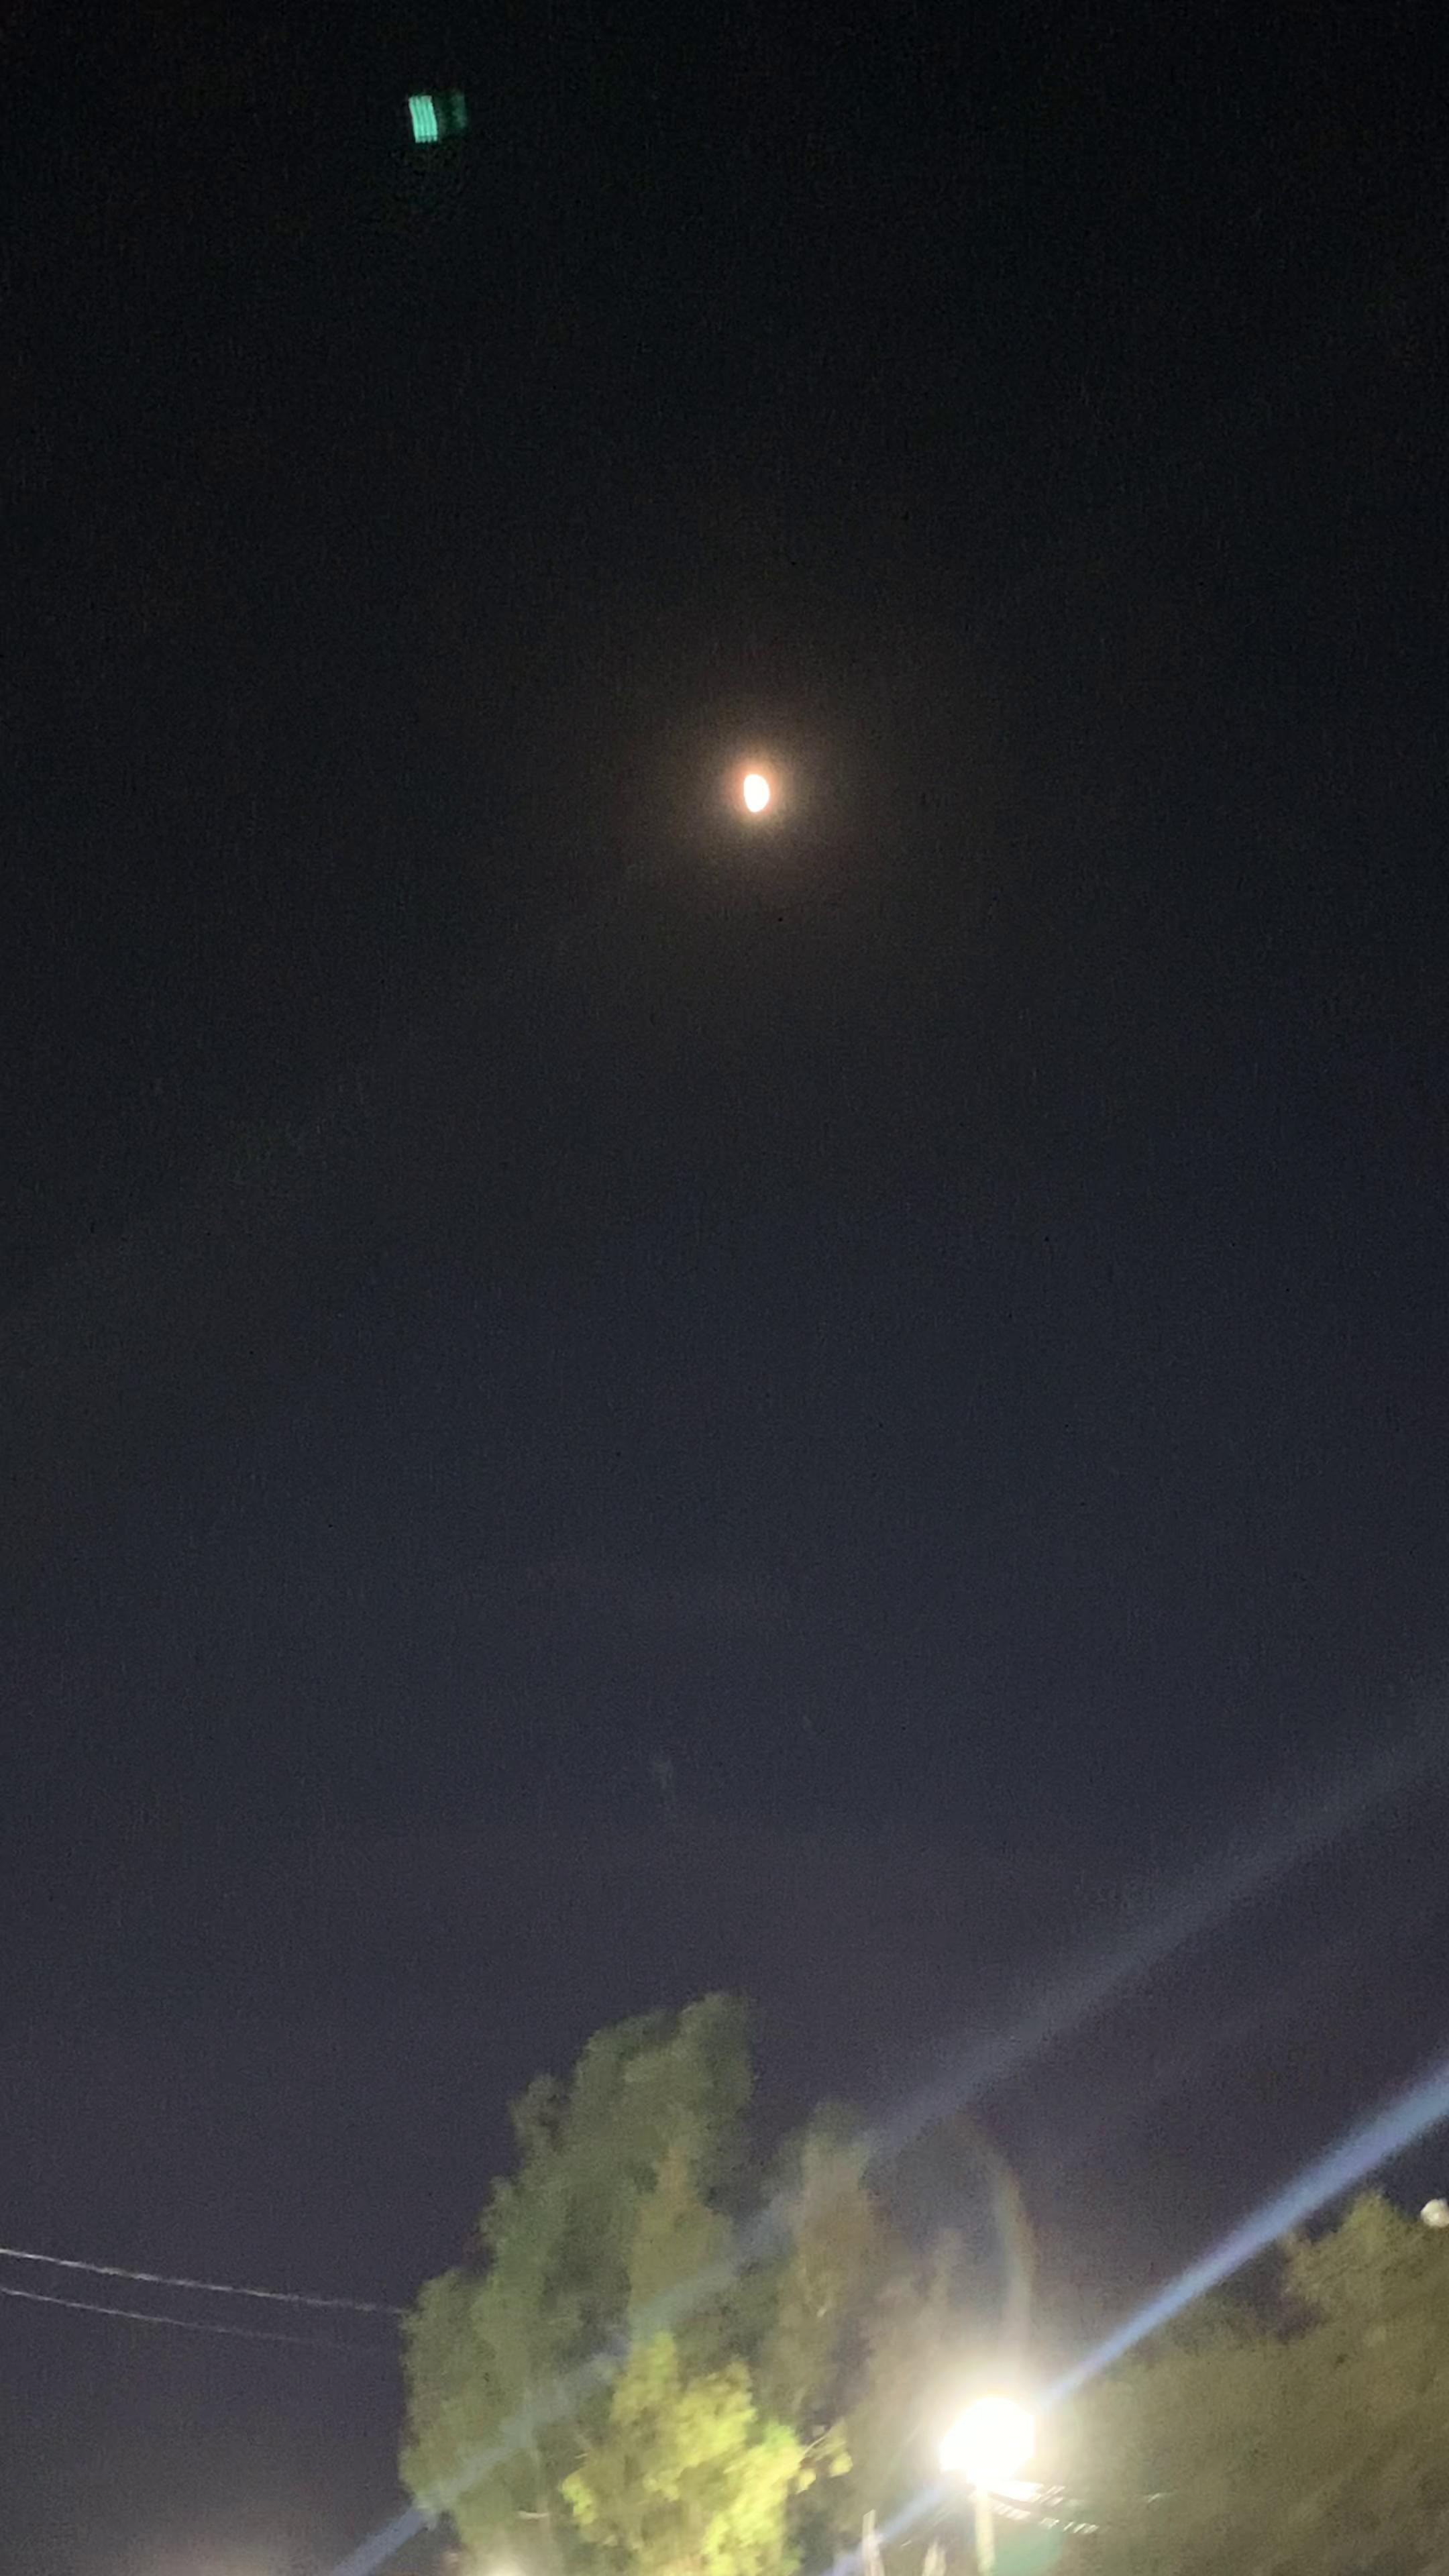moon: (679, 725, 839, 870)
